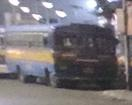Bus: (3, 23, 120, 91)
